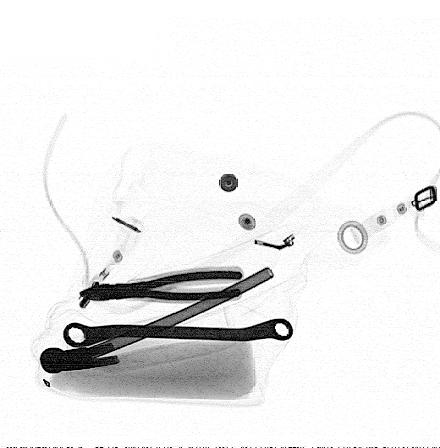Hammer: (38, 264, 277, 376)
Pliers: (75, 264, 245, 304)
Wrench: (63, 319, 295, 349)
